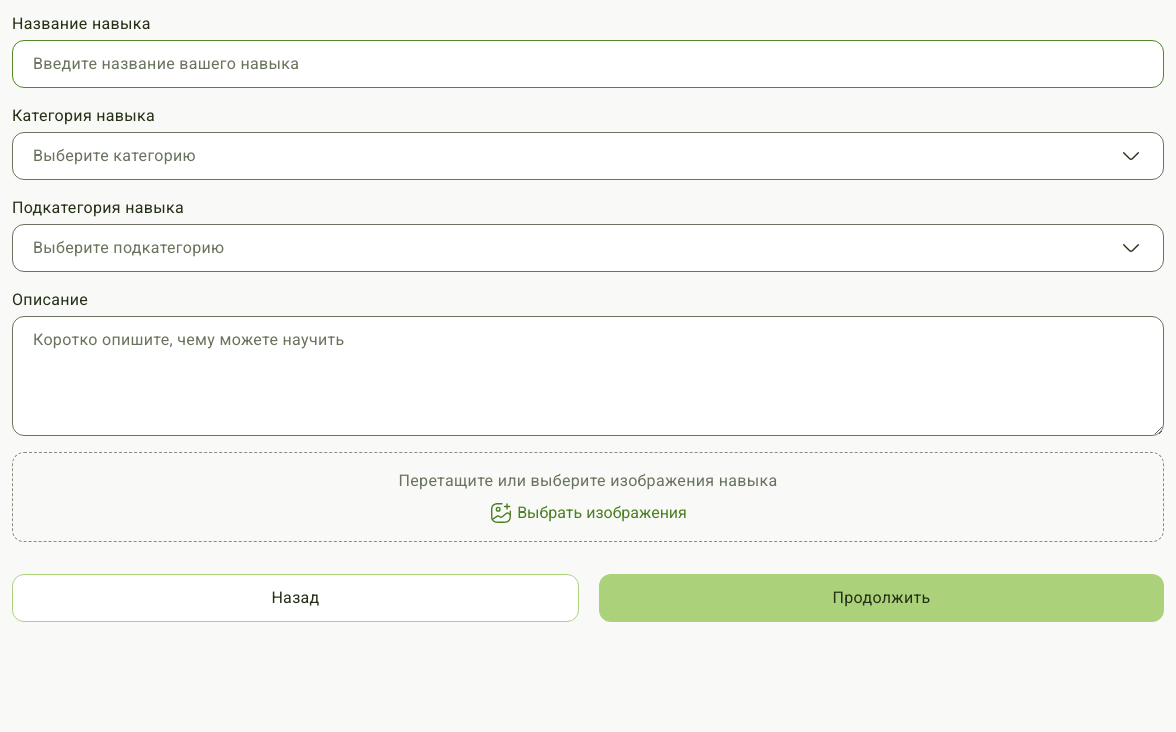
Test case: SkillForm › проверяет обязательное фото после проверки остальных полей
Type "Игра на барабанах" into the field labelled "Название навыка" at (588, 64), box 12,40 -> 1164,88
Click the dropdown named "Категория навыка" at (114, 156), box 12,132 -> 1164,180
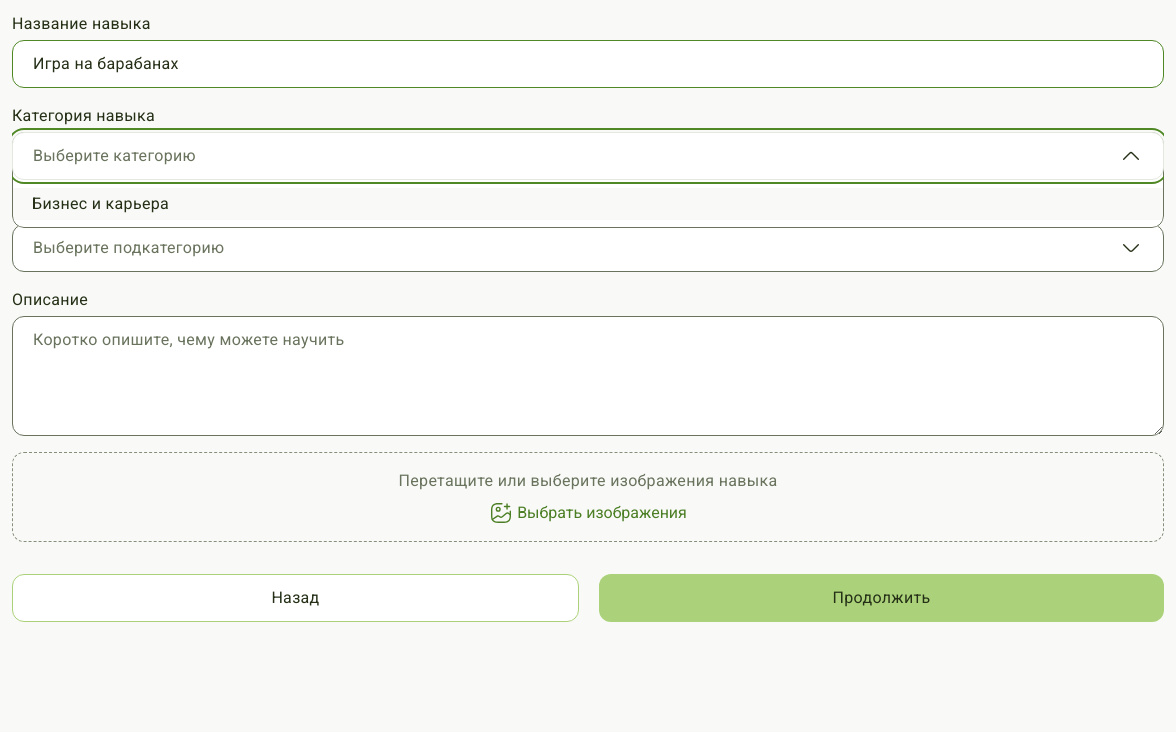
Click the option "Бизнес и карьера" at (101, 204), box 12,188 -> 1164,220
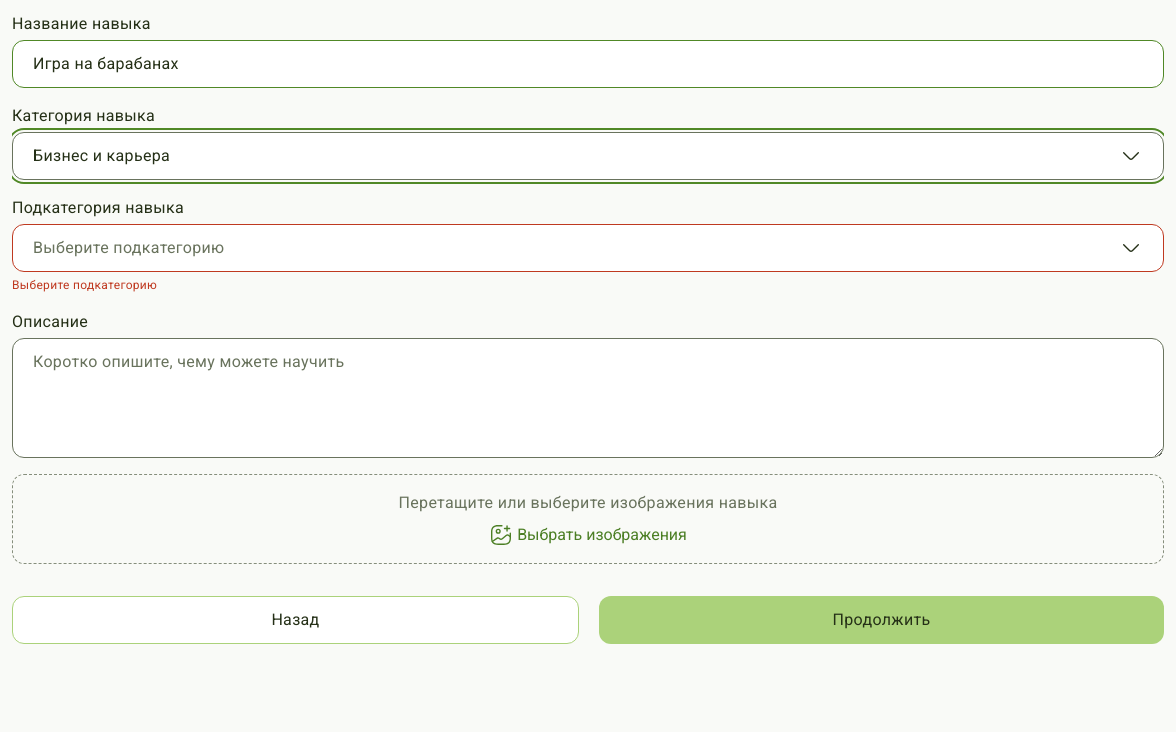
Click the dropdown named "Подкатегория навыка" at (129, 248), box 12,224 -> 1164,272
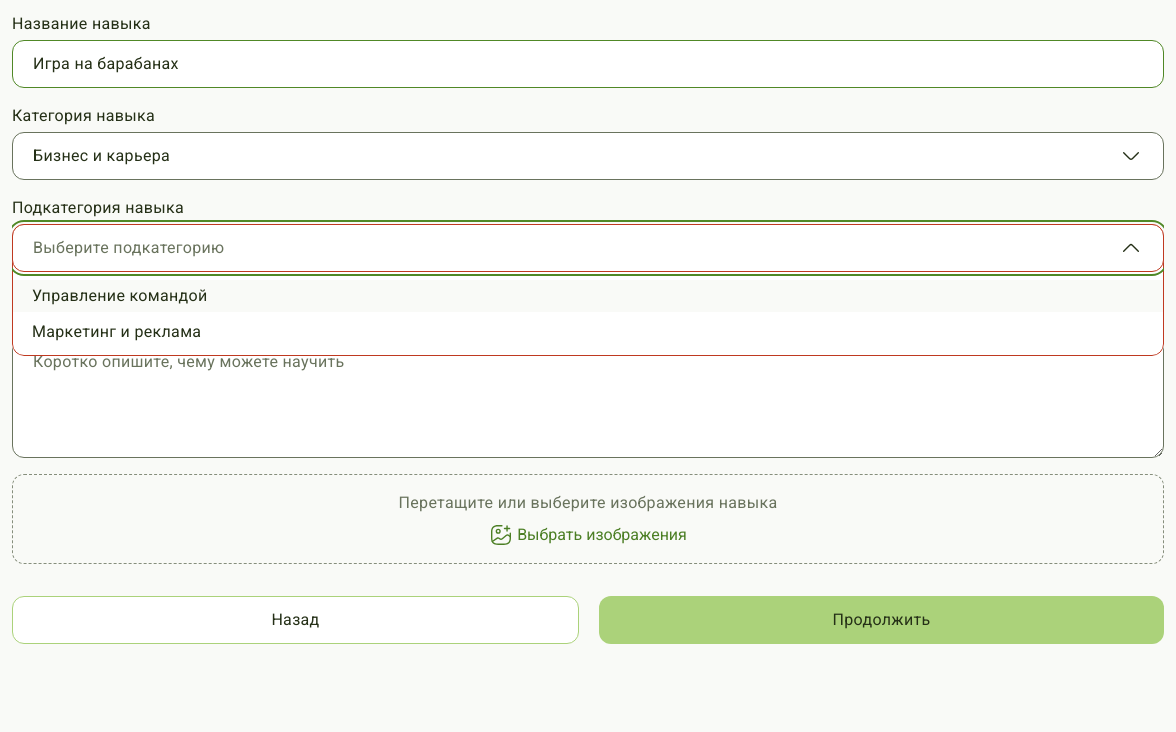
Click the option "Управление командой" at (120, 296), box 12,280 -> 1164,312
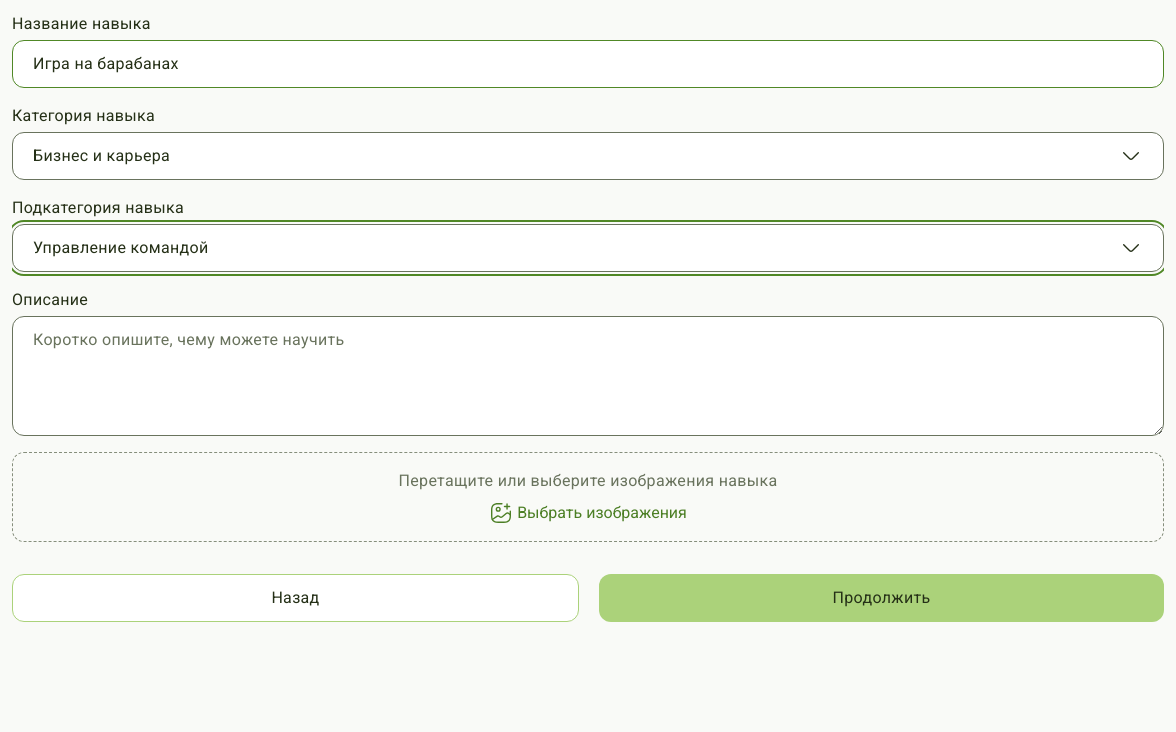
Type "Научу основам техники" into the text box labelled "Описание" at (588, 376), box 12,316 -> 1164,436
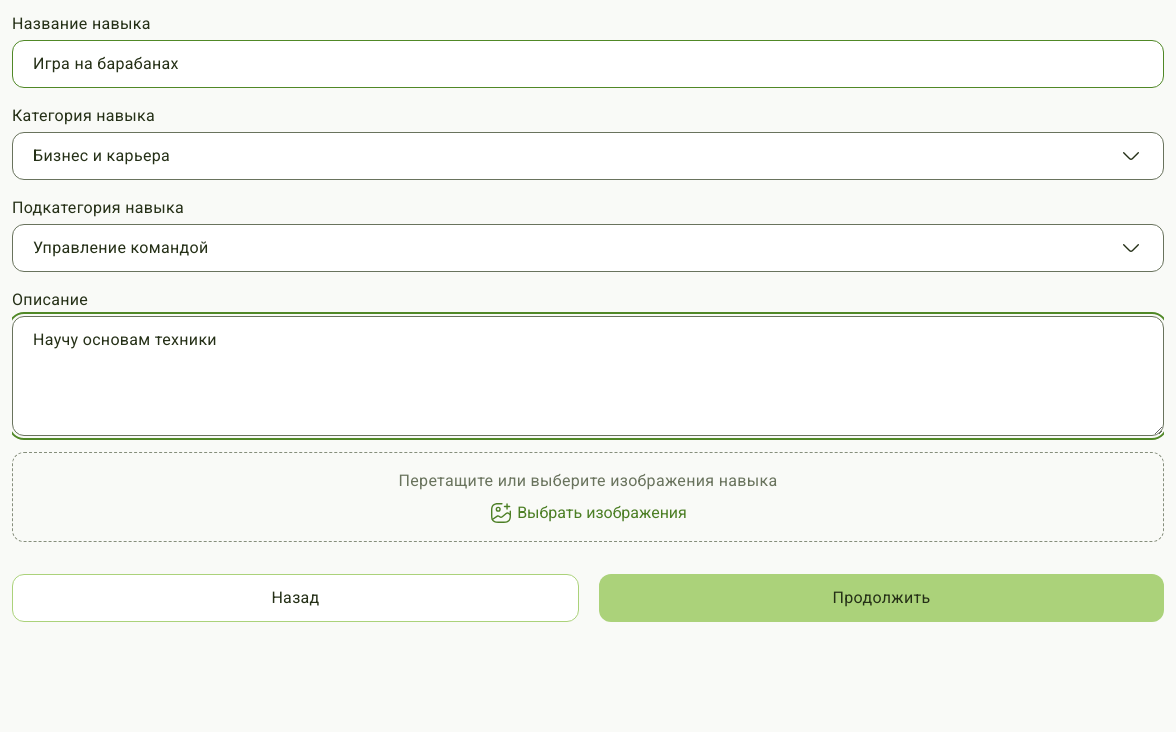
Click the button "Продолжить" at (882, 598), box 599,574 -> 1164,622
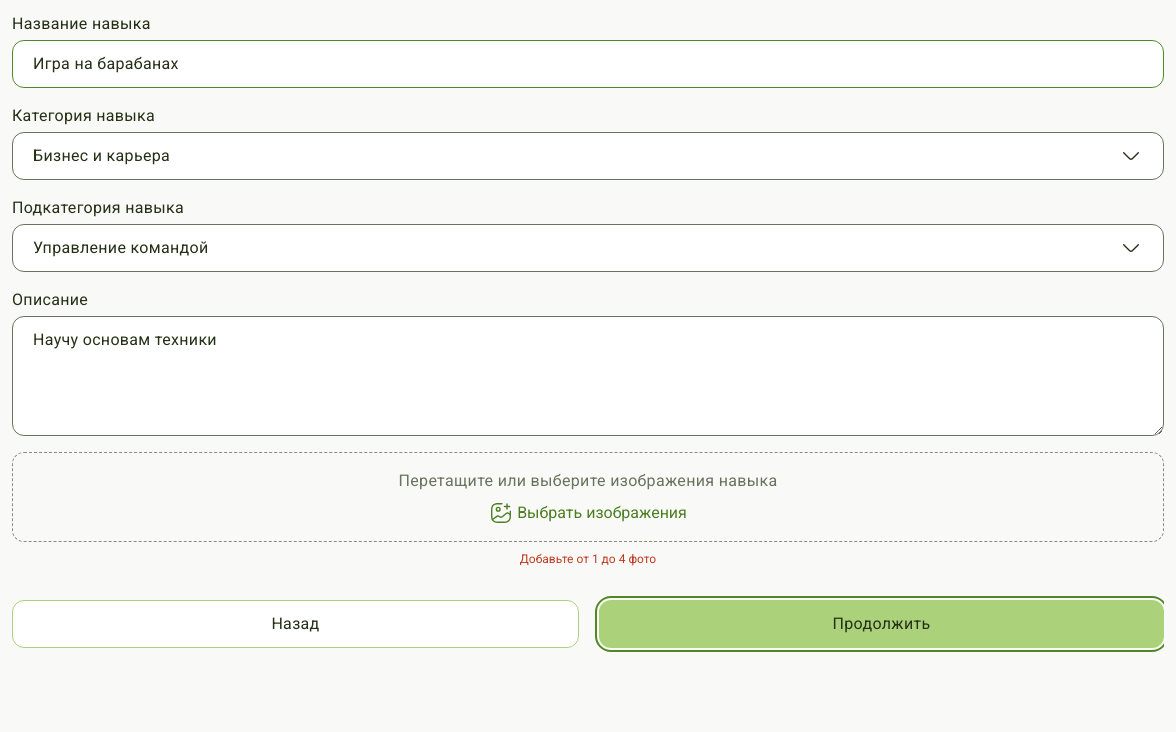
Result: the message reads "Добавьте от 1 до 4 фото" at 520,552 -> 656,566
